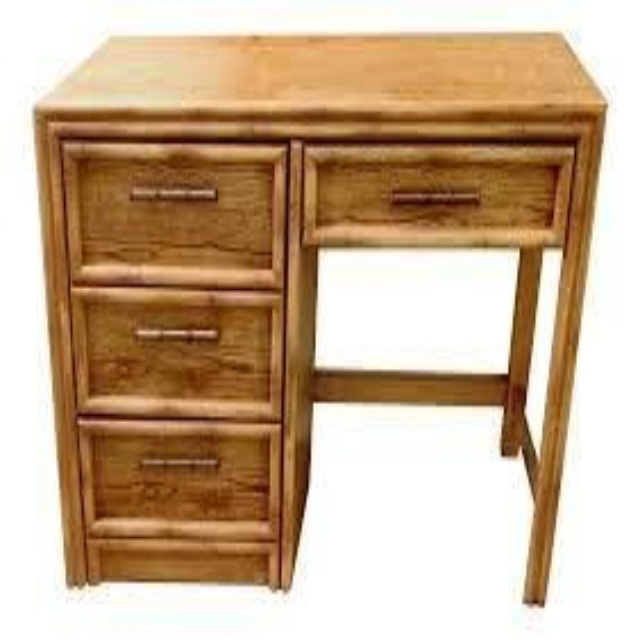obstacle: (36, 36, 604, 600)
